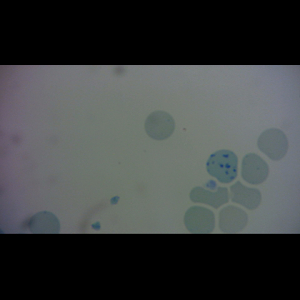aggregate reticulocyte: (205, 148, 240, 185)
erythrocyte: (256, 128, 289, 163), (188, 185, 231, 209), (230, 181, 263, 212), (183, 205, 216, 234), (218, 206, 250, 234)
punctate reticulocyte: (143, 109, 176, 141), (240, 152, 270, 186)
